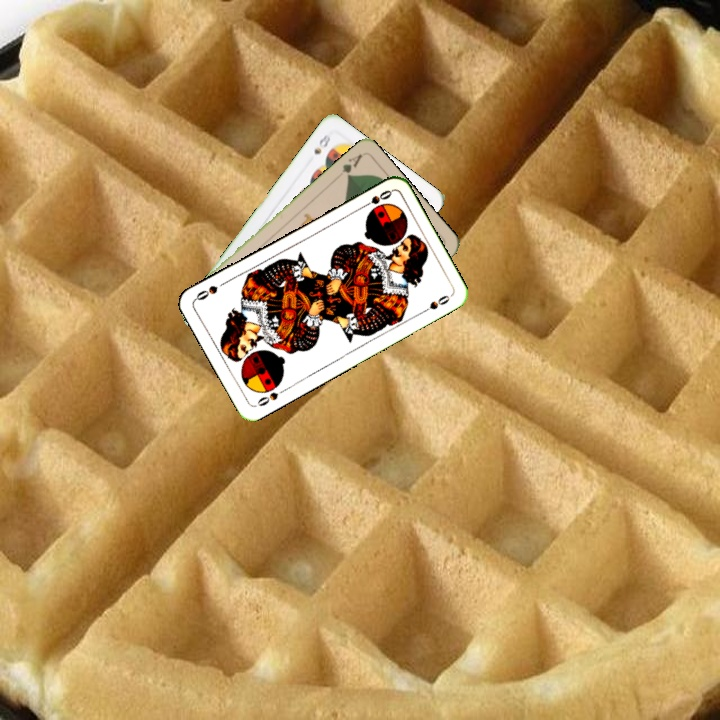GA: (337, 150, 365, 181)
S8: (310, 130, 333, 157)
SO: (357, 186, 395, 211), (253, 384, 289, 409)
